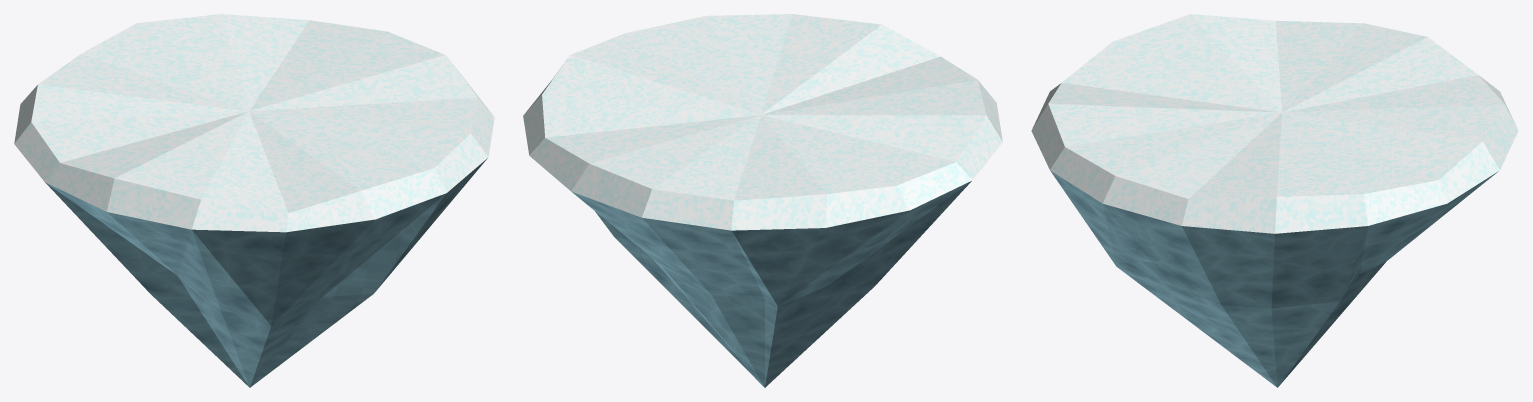
Rendered from floating_island_1.glb.
3 renders of one model, left to right at view 1: azimuth 30°, elevation 25°; view 2: azimuth 150°, elevation 25°; view 3: azimuth 270°, elevation 25°, orthographic.
Parts seen in each view (by area): view 1: floating_island_1; view 2: floating_island_1; view 3: floating_island_1.
Boxes of the visible parts, x1,y1,x2,y2 form: floating_island_1: [14, 14, 494, 387]; floating_island_1: [523, 14, 1002, 387]; floating_island_1: [1031, 14, 1518, 387].
Size of the model in its own units: 10.48 by 6.81 by 10.48.
Materials: 2 (2 with a texture image).
